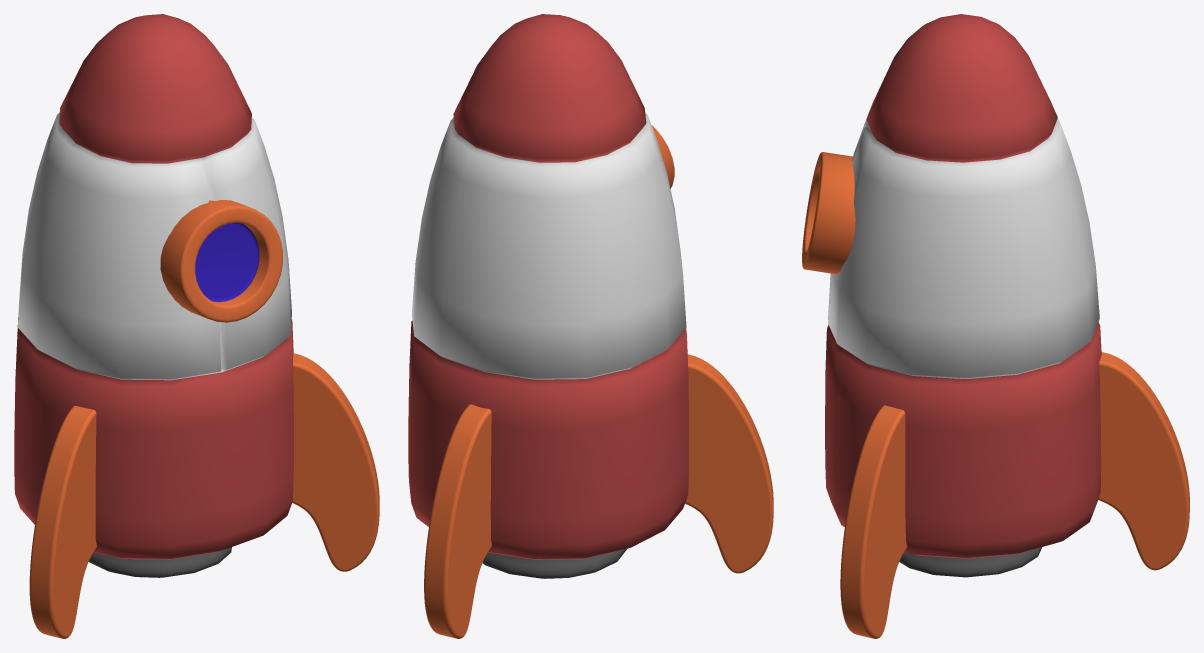
The model's file is rocket.glb.
3 views of the same model, side by side, from view 1: azimuth 30°, elevation 25°; view 2: azimuth 150°, elevation 25°; view 3: azimuth 270°, elevation 25° (orthographic).
Parts seen in each view (by area): view 1: Model-Toy-Rocket; view 2: Model-Toy-Rocket; view 3: Model-Toy-Rocket.
Part boxes in pixels (bbox=[...]): Model-Toy-Rocket: bbox=[14, 14, 379, 638]; Model-Toy-Rocket: bbox=[408, 14, 773, 638]; Model-Toy-Rocket: bbox=[802, 14, 1189, 638].
Bounding box in the file's own units: 1.4 × 2.11 × 1.36.
